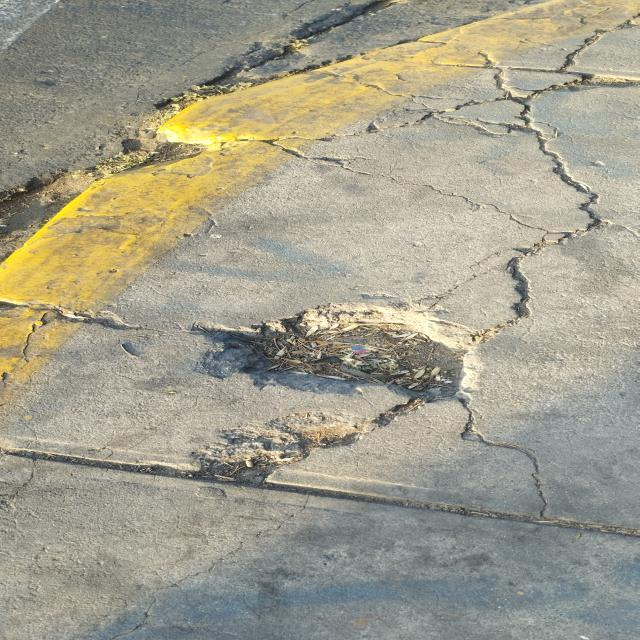hole: (179, 382, 395, 510), (200, 308, 478, 403)
